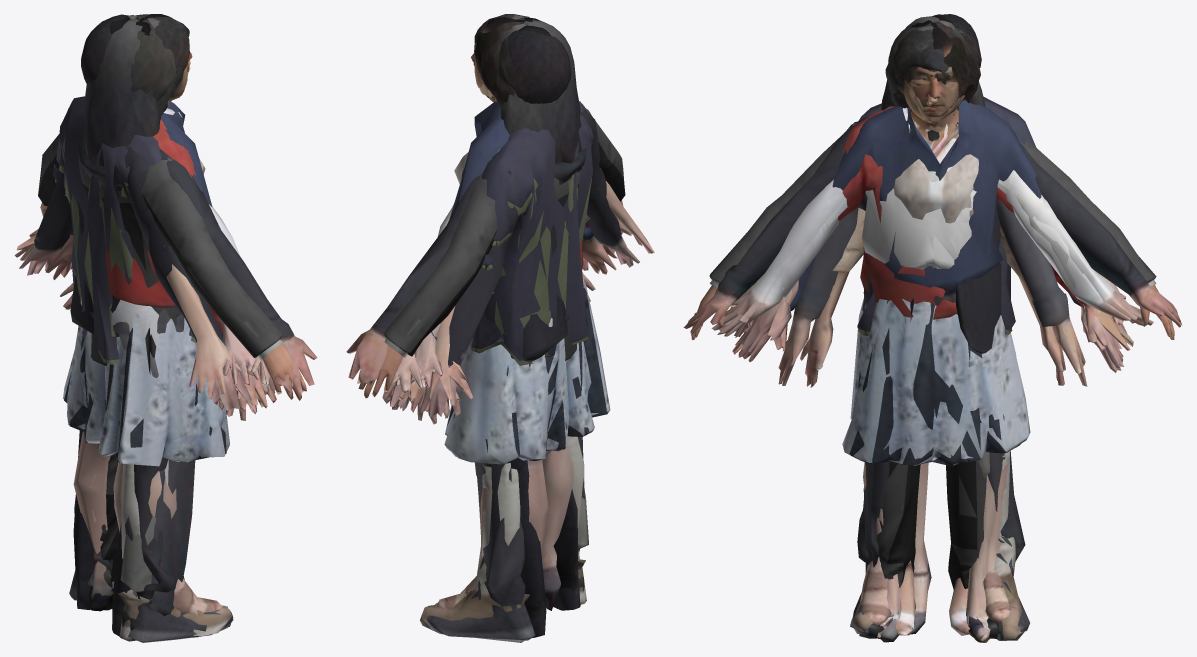
Rendered from citizens.glb.
3 views of the same model, side by side, from view 1: azimuth 30°, elevation 25°; view 2: azimuth 150°, elevation 25°; view 3: azimuth 270°, elevation 25° (orthographic).
Visible parts, largest first — view 1: citizen_06, citizen_11, citizen_02, citizen_00, citizen_04, citizen_07, citizen_05, citizen_08, citizen_10, citizen_09, citizen_03, citizen_01 (+2 smaller); view 2: citizen_11, citizen_06, citizen_02, citizen_07, citizen_10, citizen_00, citizen_09, citizen_04, citizen_12, citizen_01, citizen_08, citizen_03 (+2 smaller); view 3: citizen_06, citizen_10, citizen_01, citizen_02, citizen_05, citizen_04, citizen_00, citizen_12, citizen_11, citizen_13, citizen_03, citizen_07 (+2 smaller).
Boxes of the visible parts, x1,y1,x2,y2 form: citizen_06: [63, 18, 270, 518]; citizen_11: [52, 16, 275, 640]; citizen_02: [69, 19, 317, 642]; citizen_00: [38, 18, 306, 637]; citizen_04: [60, 20, 257, 608]; citizen_07: [19, 17, 253, 641]; citizen_05: [89, 17, 276, 616]; citizen_08: [14, 15, 240, 615]; citizen_10: [45, 14, 263, 636]; citizen_09: [55, 14, 274, 636]; citizen_03: [38, 17, 305, 610]; citizen_01: [64, 18, 265, 466]; citizen_11: [382, 25, 593, 642]; citizen_06: [391, 15, 610, 604]; citizen_02: [346, 17, 587, 640]; citizen_07: [420, 22, 639, 591]; citizen_10: [398, 17, 616, 637]; citizen_00: [358, 18, 625, 397]; citizen_09: [385, 28, 592, 612]; citizen_04: [417, 19, 595, 550]; citizen_12: [410, 21, 631, 610]; citizen_01: [397, 19, 607, 603]; citizen_08: [427, 24, 654, 608]; citizen_03: [360, 19, 625, 398]; citizen_06: [711, 26, 1153, 642]; citizen_10: [742, 26, 1123, 361]; citizen_01: [718, 25, 1145, 642]; citizen_02: [683, 21, 1182, 634]; citizen_05: [732, 29, 1133, 573]; citizen_04: [778, 16, 1087, 642]; citizen_00: [691, 20, 1174, 638]; citizen_12: [730, 20, 1134, 634]; citizen_11: [742, 14, 1124, 640]; citizen_13: [800, 20, 1065, 635]; citizen_03: [692, 24, 1172, 589]; citizen_07: [734, 22, 1127, 632].
Size of the model in its own units: 0.3693 by 1.72 by 1.32.
Materials: 28 (28 with a texture image).
